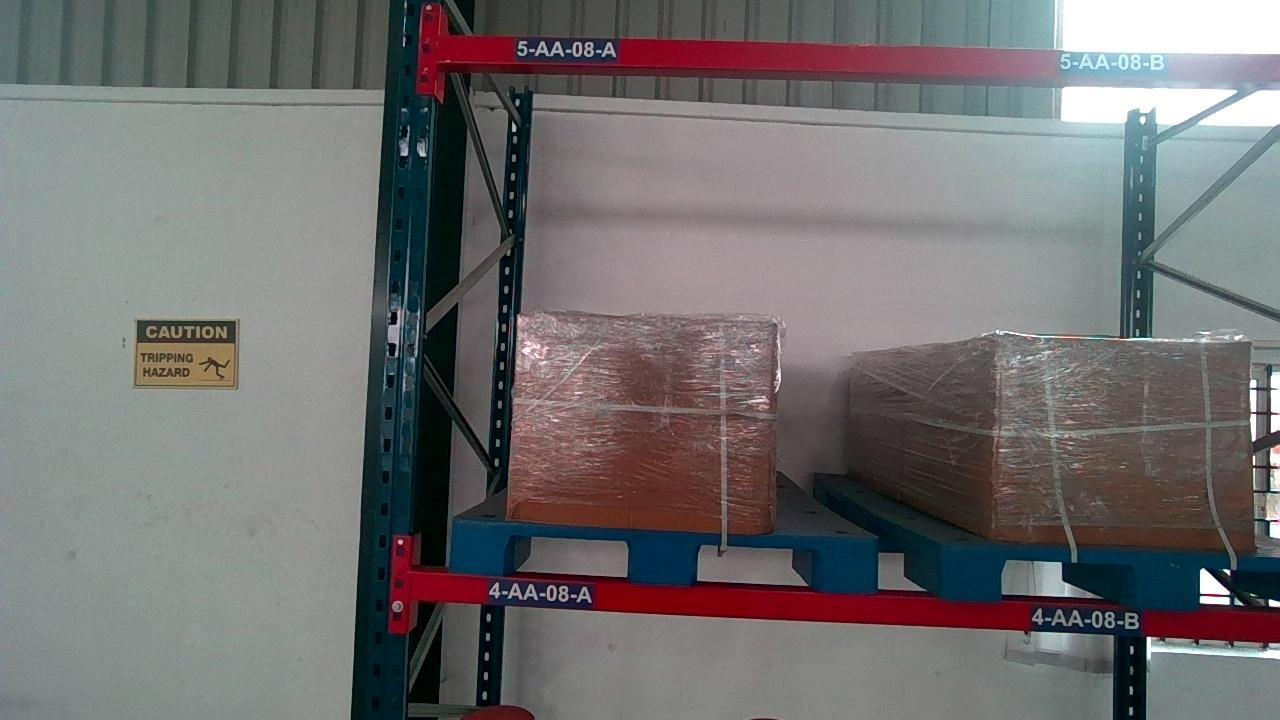h_rack: (414, 571, 1280, 644), (441, 36, 1280, 84)
small_pallet: (449, 523, 882, 587), (951, 545, 1280, 607)
